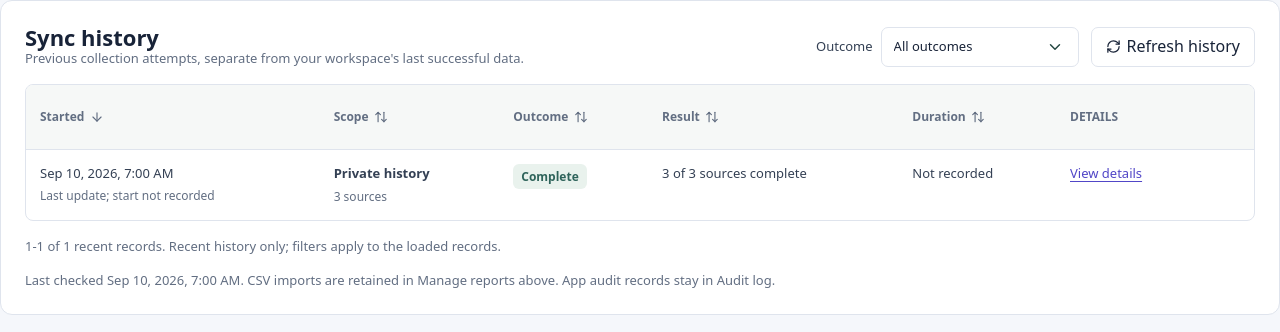
Scenario: Sync history › clears retained history when a refresh is denied with 401
Expected: the text "Private history" is shown, [334,164,430,182]
Click the button "Refresh history": (1173, 46) [1091,26,1255,66]
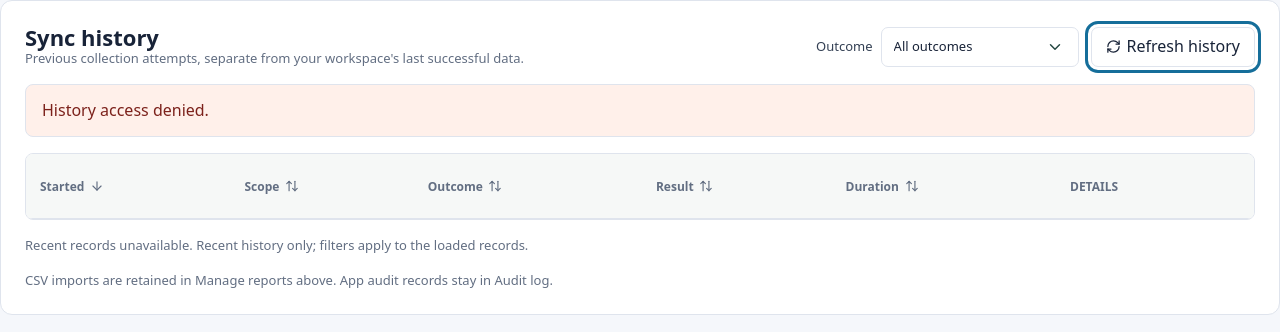
Expected: the message reads "History access denied.", [42,99,209,121]
Expected: the text "Private history" is gone
